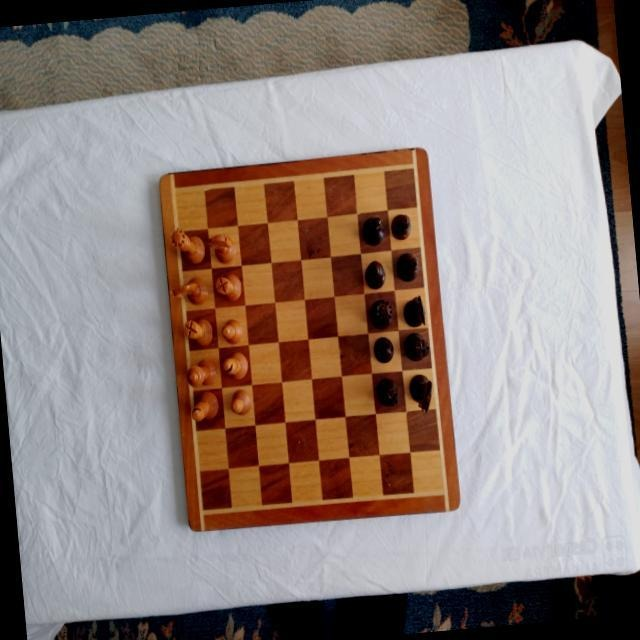black-bishop: (360, 213, 387, 247), (394, 251, 420, 282)
black-king: (361, 258, 387, 290)
black-knight: (406, 372, 433, 414), (401, 294, 427, 330)
black-pawn: (390, 211, 412, 241), (373, 335, 395, 365)
black-queen: (367, 297, 394, 331)
black-rook: (402, 330, 430, 362), (374, 376, 399, 408)
white-bishop: (189, 389, 219, 423), (219, 350, 248, 382)
white-king: (185, 355, 219, 388)
white-knight: (168, 275, 208, 308), (205, 231, 236, 265)
white-pawn: (228, 387, 252, 417), (220, 317, 243, 345)
white-queen: (169, 223, 206, 266)
white-rook: (182, 316, 213, 348), (214, 270, 242, 304)
